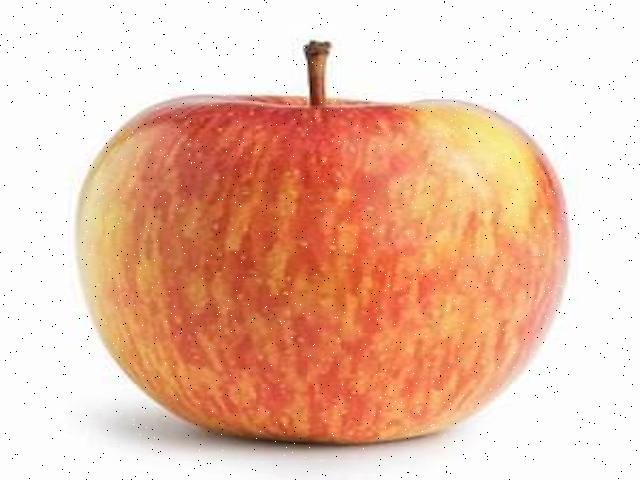apple: (66, 32, 572, 450)
